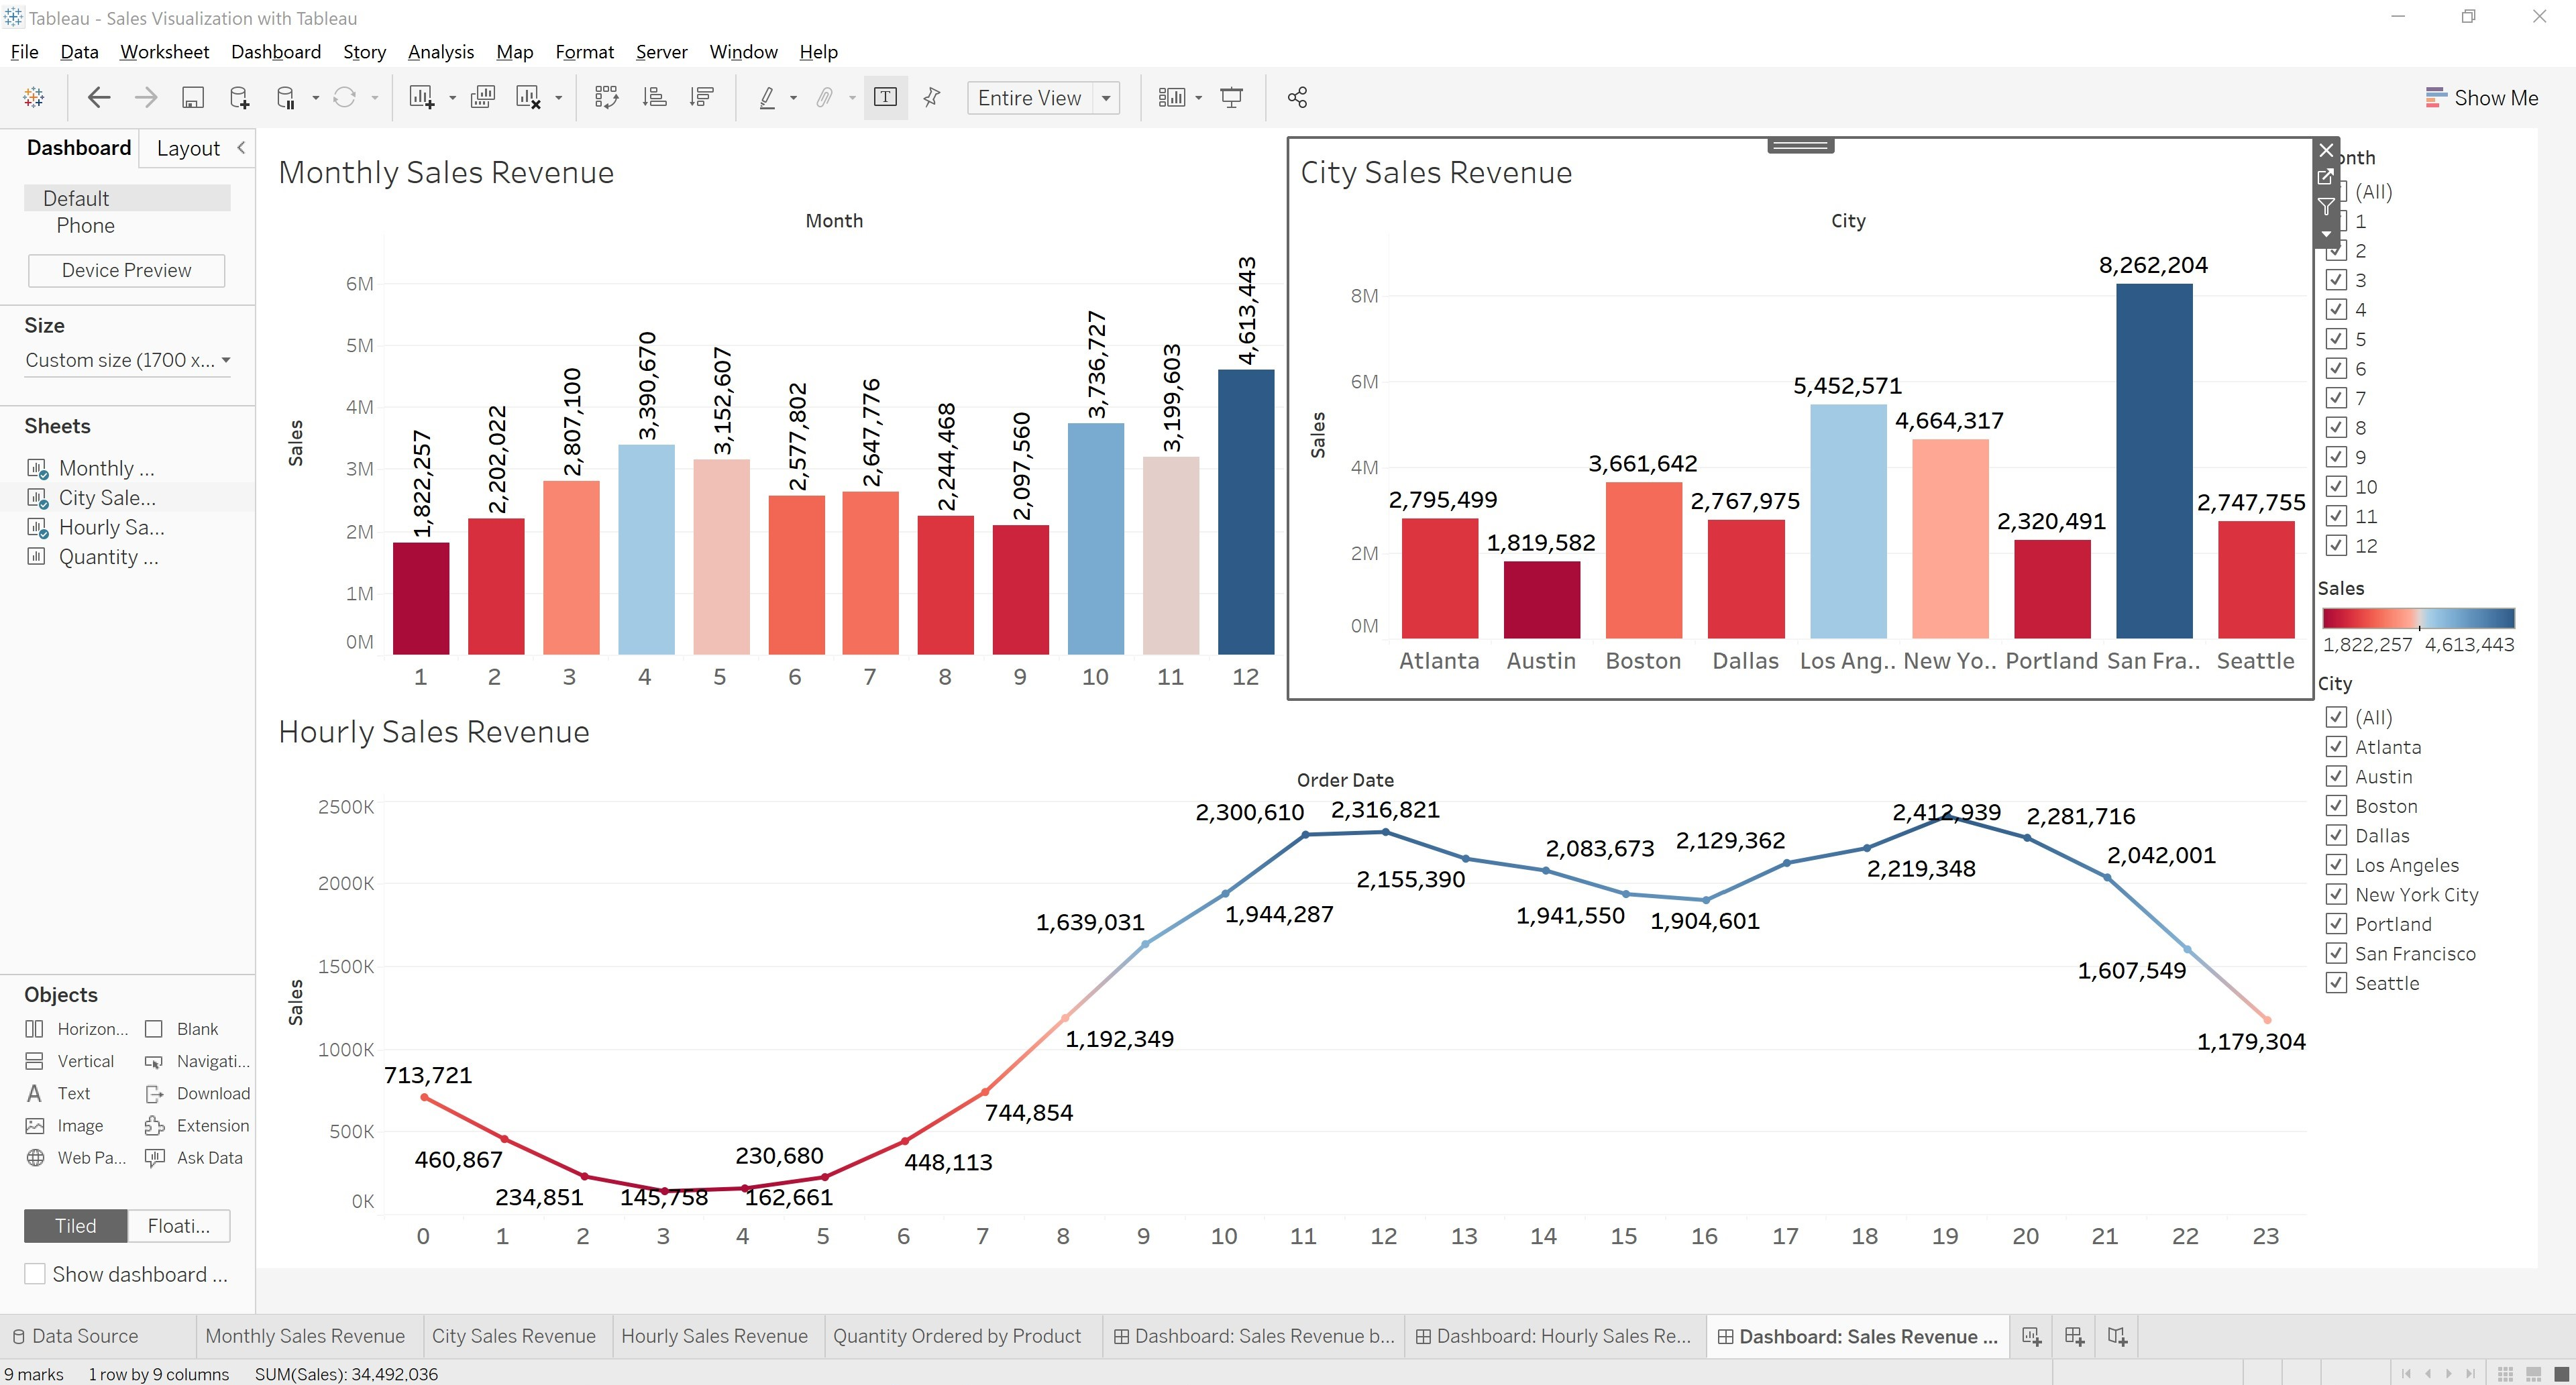

This screenshot's page, from the dashboard's own definition file:
{"tool":"tableau","page":{"name":"Dashboard: Sales Revenue by Hour, Month, City","canvas":[1700,850],"ordinal":2},"visuals":[{"type":"worksheet","title":"Monthly Sales Revenue","mark":"Automatic","rows":["Sales"],"cols":["Month"],"box":[8,8,762,417]},{"type":"worksheet","title":"City Sales Revenue","mark":"Automatic","rows":["Sales"],"cols":["City"],"box":[770,8,762,417]},{"type":"filter","title":"Monthly Sales Revenue","param":"[federated.0ngyhyb0e0siqk19xj7q51w0hanr].[none:Month:ok]","box":[1532,8,160,321]},{"type":"legend","title":"Monthly Sales Revenue","param":"[federated.0ngyhyb0e0siqk19xj7q51w0hanr].[sum:Sales:qk]","box":[1532,329,160,71]},{"type":"filter","title":"City Sales Revenue","param":"[federated.0ngyhyb0e0siqk19xj7q51w0hanr].[none:City:nk]","box":[1532,400,160,255]},{"type":"worksheet","title":"Hourly Sales Revenue","mark":"Automatic","rows":["Sales"],"cols":["Order Date"],"box":[8,425,1524,417]}]}

Visuals, with their boxes on the page's 1700x850 design canvas (x1, y1, x2, y2). These are canvas units, not pixel positions in the 2576x1385 screenshot, which may show the page scaled, cropped or inside an application window:
"Monthly Sales Revenue" worksheet: crop(8, 8, 770, 425)
"City Sales Revenue" worksheet: crop(770, 8, 1532, 425)
"Monthly Sales Revenue" filter: crop(1532, 8, 1692, 329)
"Monthly Sales Revenue" legend: crop(1532, 329, 1692, 400)
"City Sales Revenue" filter: crop(1532, 400, 1692, 655)
"Hourly Sales Revenue" worksheet: crop(8, 425, 1532, 842)
